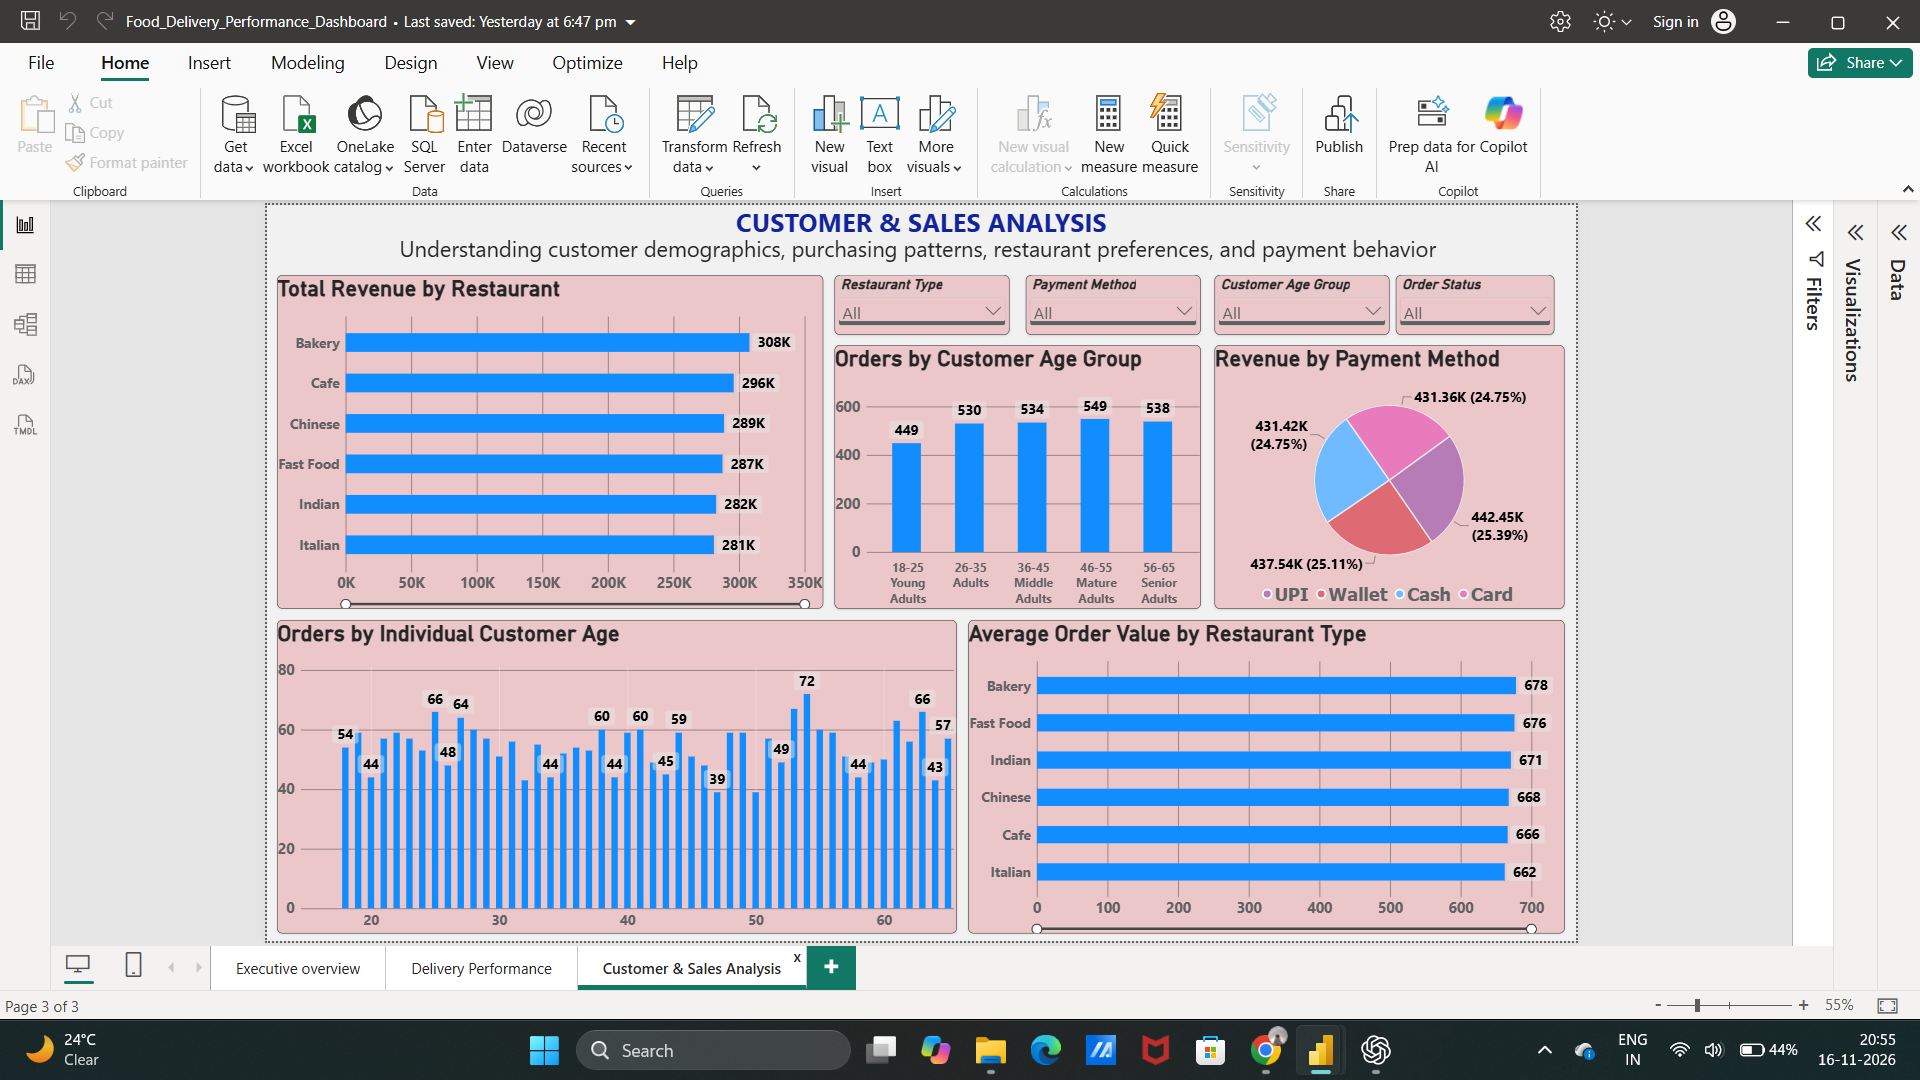

This screenshot's page, from the dashboard's own definition file:
{"tool":"powerbi","page":{"name":"Customer & Sales Analysis","canvas":[1920,1080],"ordinal":2},"visuals":[{"type":"clusteredBarChart","title":"Total Revenue by Restaurant ","fields":{"Category":["daily_food_delivery_orders.restaurant_type"],"Y":["daily_food_delivery_orders.Total Revenue"]},"box":[653,100.9,719,460.4],"z":1000},{"type":"barChart","title":"Average Order Value by Restaurant Type ","fields":{"Category":["daily_food_delivery_orders.restaurant_type"],"Y":["daily_food_delivery_orders.Average Order Value"]},"box":[1029,576,874.9,493.4],"z":2000},{"type":"clusteredColumnChart","title":"Orders by Customer Age Group","fields":{"Category":["daily_food_delivery_orders.Customer Age Group"],"Y":["daily_food_delivery_orders.Total orders"]},"box":[14.7,102.7,620,460.4],"z":3000},{"type":"pieChart","title":"Revenue by Payment Method","fields":{"Category":["daily_food_delivery_orders.payment_method"],"Y":["daily_food_delivery_orders.Total Revenue"]},"box":[1390.4,205.4,513.6,355.8],"z":13000},{"type":"textbox","box":[53.2,42.2,1812.2,45.9],"z":13001},{"type":"columnChart","title":"Orders by Individual Customer Age ","fields":{"Category":["daily_food_delivery_orders.customer_age"],"Y":["daily_food_delivery_orders.Total orders"]},"box":[14.7,576,997.8,493.4],"z":13002},{"type":"slicer","fields":{"Values":["daily_food_delivery_orders.Customer Age Group"]},"box":[1390.4,102.7,256.8,88],"z":13003},{"type":"textbox","box":[75.2,9.2,1630.6,42.2],"z":13004},{"type":"slicer","fields":{"Values":["daily_food_delivery_orders.order_status"]},"box":[1656.3,102.7,232.9,88],"z":13005}]}

Visuals, with their boxes on the page's 1920x1080 design canvas (x1, y1, x2, y2). These are canvas units, not pixel positions in the 1920x1080 screenshot, which may show the page scaled, cropped or inside an application window:
"Total Revenue by Restaurant " clusteredBarChart: 653/101/1372/561
"Average Order Value by Restaurant Type " barChart: 1029/576/1904/1069
"Orders by Customer Age Group" clusteredColumnChart: 15/103/635/563
"Revenue by Payment Method" pieChart: 1390/205/1904/561
textbox: 53/42/1865/88
"Orders by Individual Customer Age " columnChart: 15/576/1012/1069
slicer - daily_food_delivery_orders.Customer Age Group: 1390/103/1647/191
textbox: 75/9/1706/51
slicer - daily_food_delivery_orders.order_status: 1656/103/1889/191
